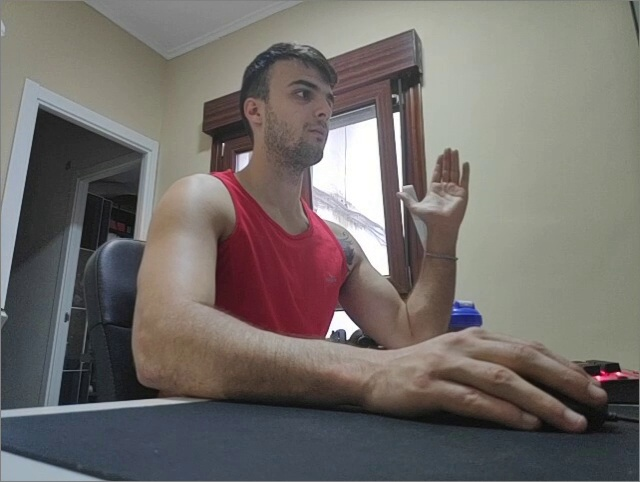Palm: (393, 145, 474, 226)
